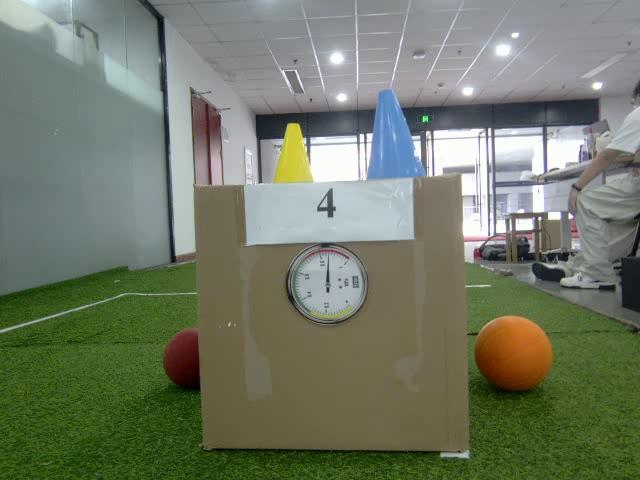4: (316, 188, 336, 221)
Dashboard: (284, 243, 368, 325)
blue_barrel: (366, 86, 427, 181)
orange_ball: (474, 315, 555, 392)
red_ball: (163, 327, 200, 389)
ssi: (350, 275, 360, 291)
yellow_barrel: (271, 122, 317, 185)
